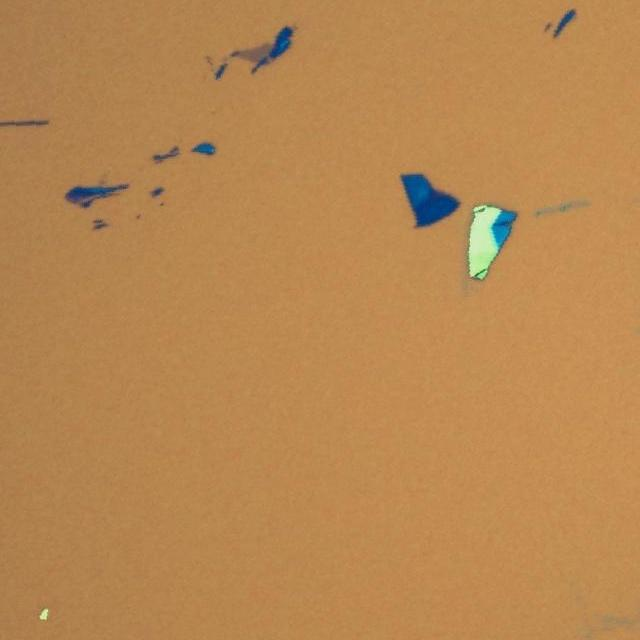monolayer-eWW4: (237, 40, 273, 61)
